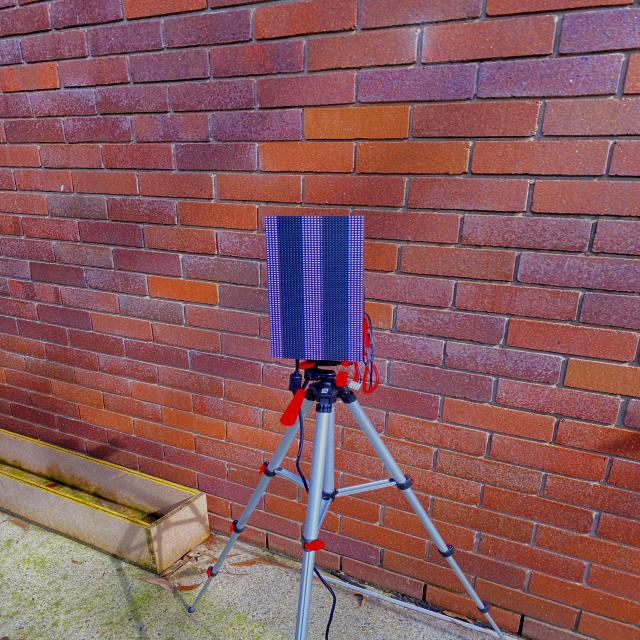matrix: (258, 211, 368, 367)
